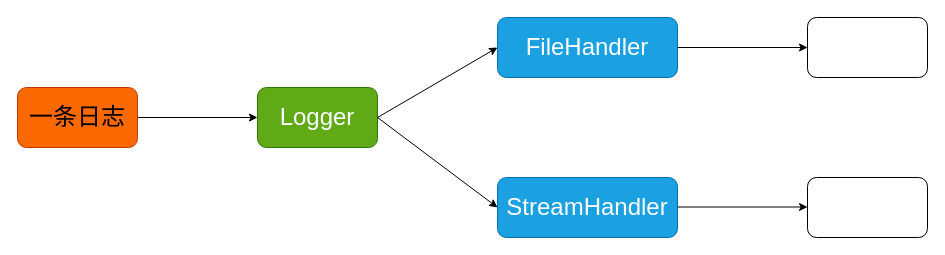
Some shapes in this 945 by 255 pixel diagram are drawn without their labels. Here are the shapes that lost their labels. From the top down, the centre of each, then its label:
At [867,47]: "test.log".
At [867,207]: "控制台".
